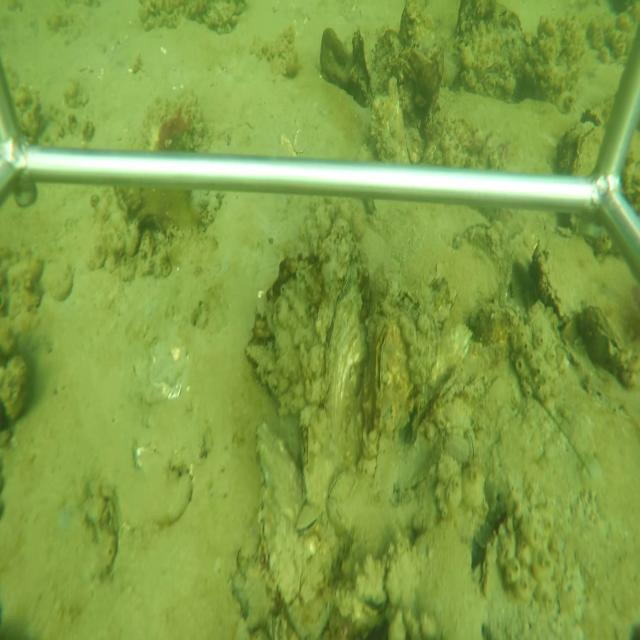Oyster-Closed: (297, 268, 369, 515), (254, 416, 330, 640), (392, 285, 442, 399), (373, 314, 415, 431)
